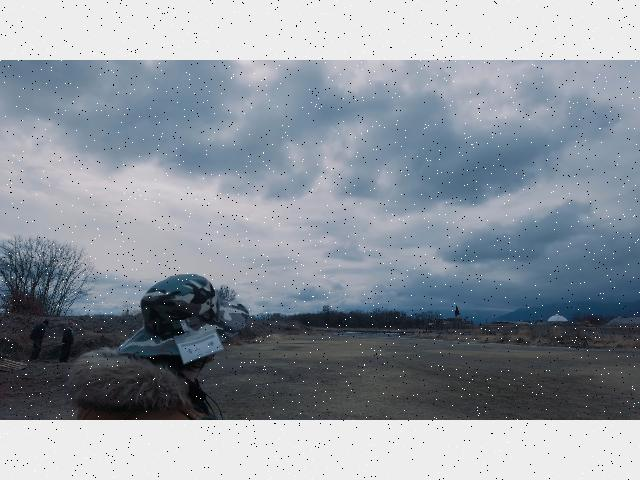Anti-Drone: (322, 272, 338, 280)
